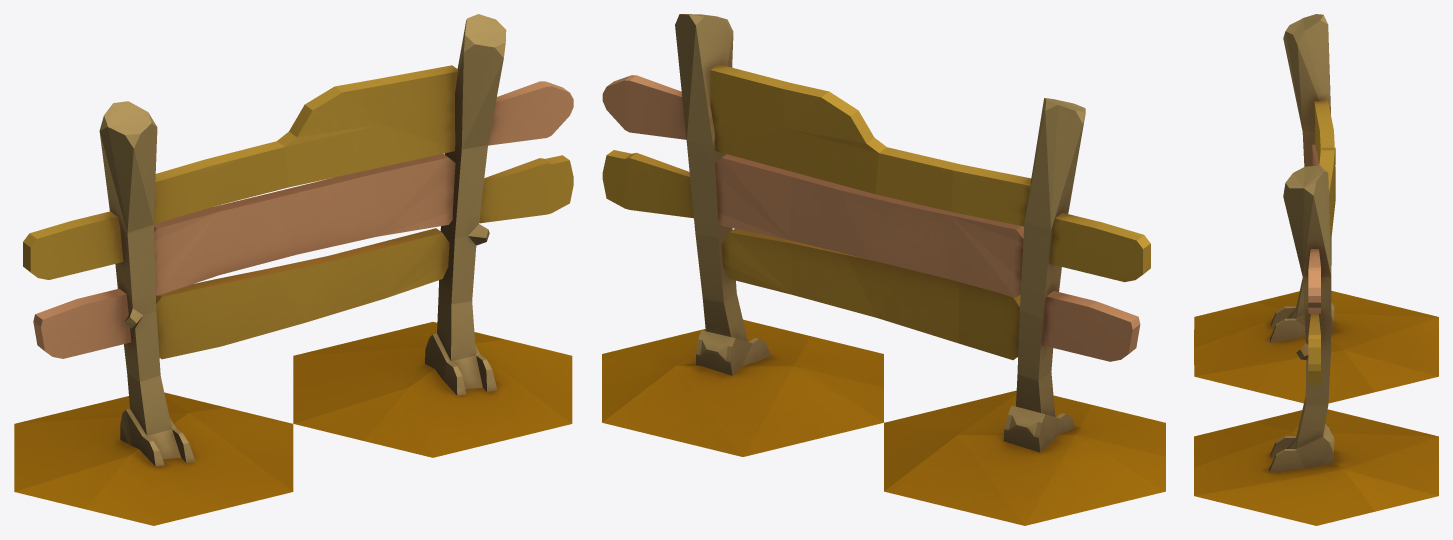
File: zhalan2.FBX
3 renders of one model, left to right at view 1: azimuth 30°, elevation 25°; view 2: azimuth 150°, elevation 25°; view 3: azimuth 270°, elevation 25°, orthographic. The views are drawn at different scales.
Visible parts, largest first — view 1: OBJ_Bulletin_02; view 2: OBJ_Bulletin_02; view 3: OBJ_Bulletin_02.
Boxes of the visible parts, x1,y1,x2,y2 form: OBJ_Bulletin_02: (14,14,573,525); OBJ_Bulletin_02: (602,14,1165,525); OBJ_Bulletin_02: (1194,14,1438,525).
Bounding box in the file's own units: 6.13 × 3.79 × 2.65.
